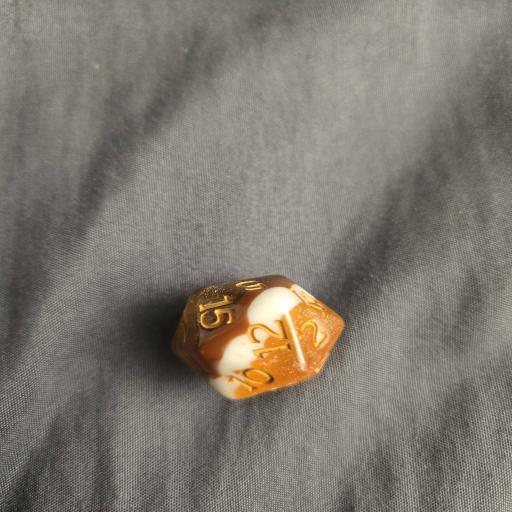twenty sided dice: (170, 274, 344, 400)
